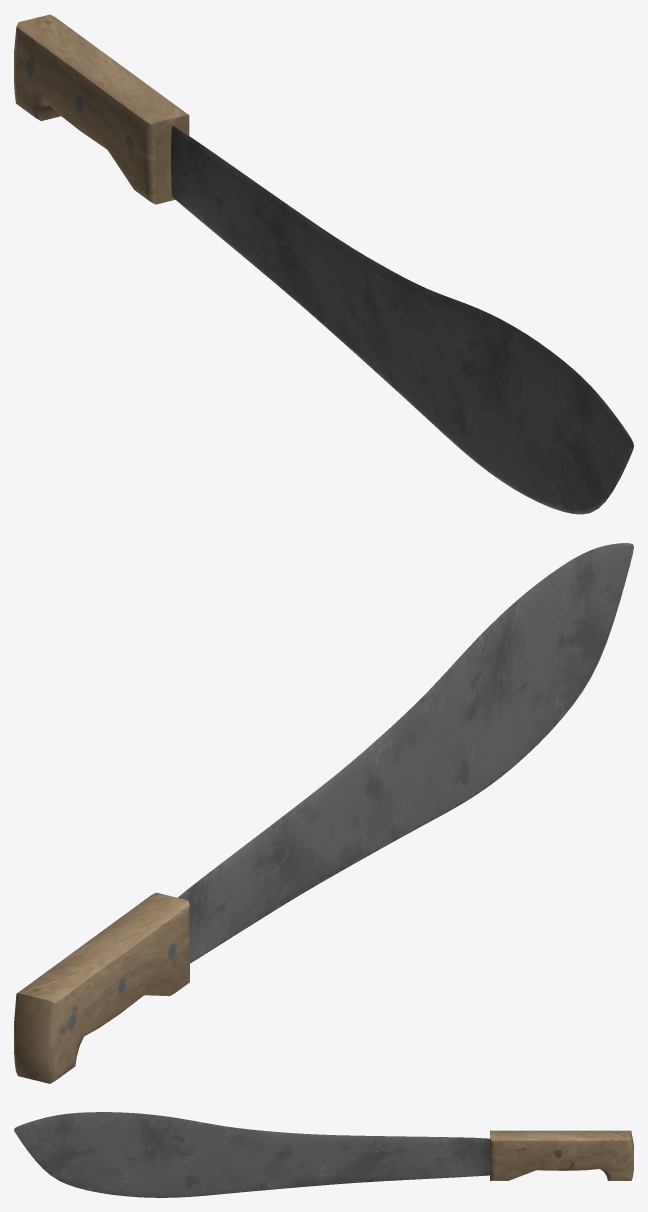
The model's file is machete.glb.
3 views of the same model, one above another, from view 1: azimuth 30°, elevation 25°; view 2: azimuth 150°, elevation 25°; view 3: azimuth 270°, elevation 25° (orthographic). The views are drawn at different scales.
Parts seen in each view (by area): view 1: Machete; view 2: Machete; view 3: Machete.
Boxes of the visible parts, <box> form: Machete: <box>14,14,633,514</box>; Machete: <box>14,543,633,1083</box>; Machete: <box>14,1112,633,1197</box>.
Bounding box in the file's own units: 0.0222 × 0.0842 × 0.5509.
Materials: 1 (1 with a texture image).
